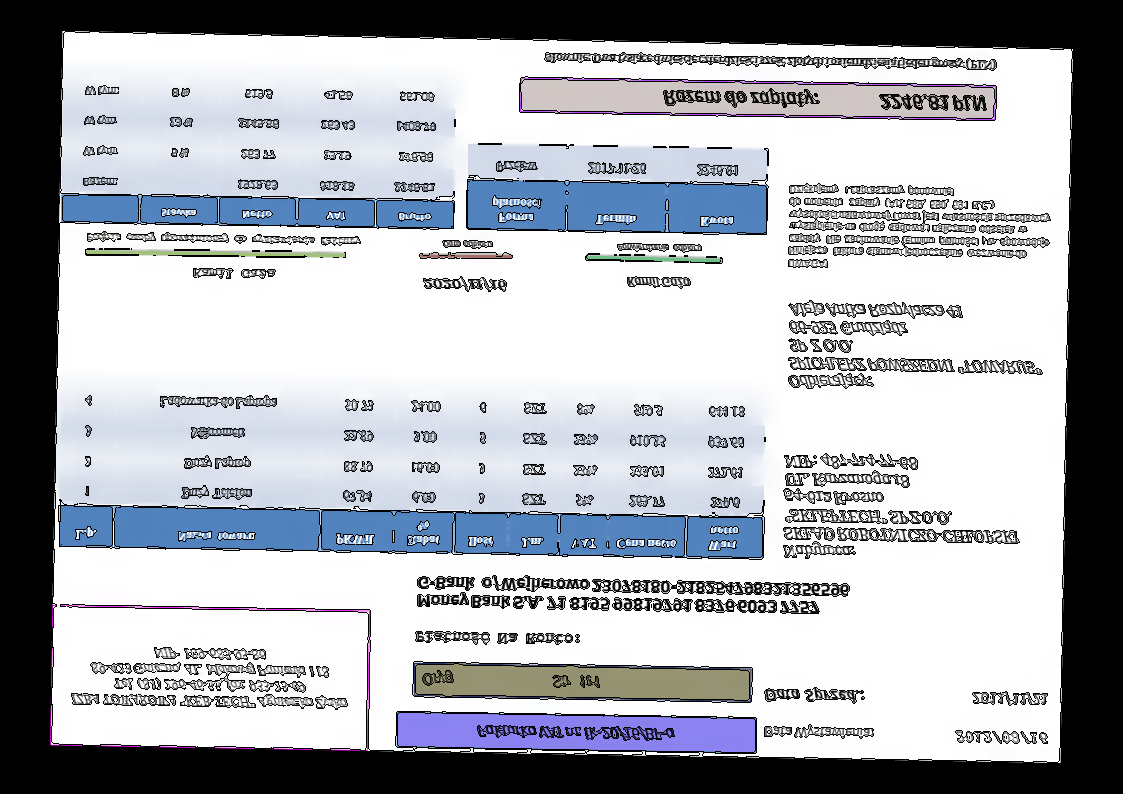Table: (57, 381, 766, 562), (60, 71, 457, 230), (465, 142, 769, 237)
TextBox: (780, 449, 1023, 565), (784, 298, 1048, 396), (785, 181, 1055, 276), (69, 642, 350, 716), (414, 572, 852, 619), (542, 49, 998, 74), (660, 85, 989, 116), (84, 228, 363, 250), (472, 720, 678, 744), (420, 668, 603, 692), (412, 627, 581, 648), (761, 684, 872, 706), (761, 725, 877, 743), (953, 727, 1050, 748), (420, 275, 508, 295), (969, 689, 1051, 708), (190, 265, 280, 282), (615, 240, 702, 256), (622, 274, 693, 291), (439, 237, 495, 251)
